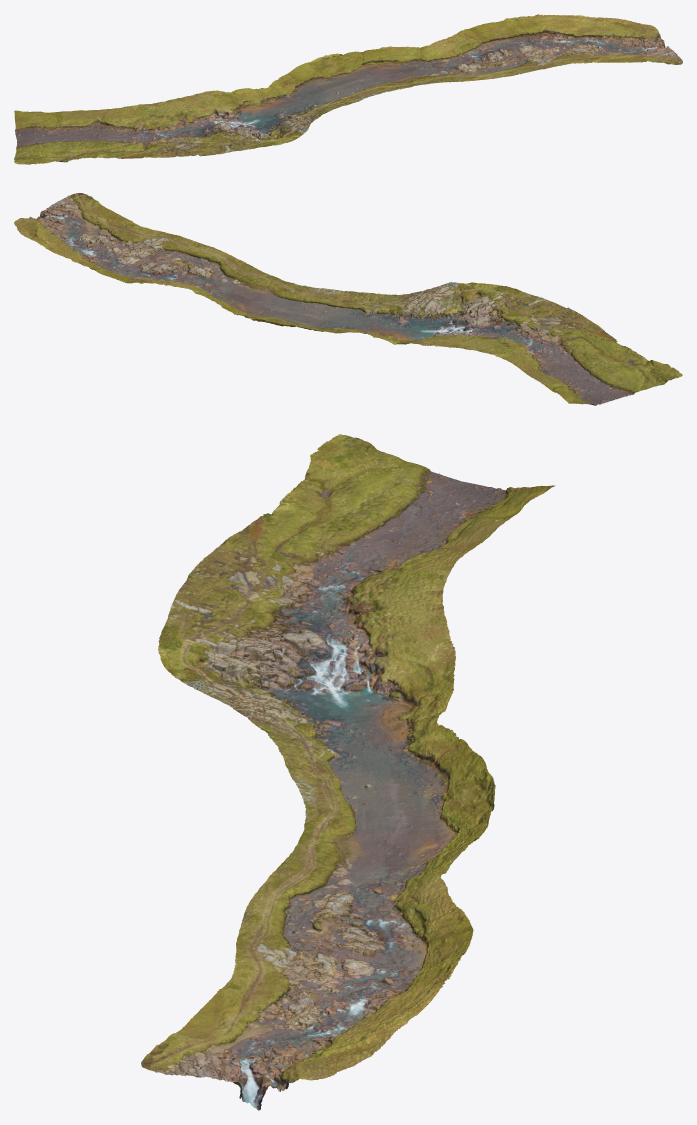
Rendered from river-2k.glb.
3 renders of one model, top to bottom at view 1: azimuth 30°, elevation 25°; view 2: azimuth 150°, elevation 25°; view 3: azimuth 270°, elevation 25°, orthographic. The views are drawn at different scales.
Parts seen in each view (by area): view 1: river_3_01; view 2: river_3_01; view 3: river_3_01.
Boxes of the visible parts, bbox=[...] form: river_3_01: bbox=[14, 14, 682, 164]; river_3_01: bbox=[14, 193, 682, 405]; river_3_01: bbox=[141, 434, 555, 1110].
Size of the model in its own units: 221 by 11.05 by 62.77.
1 material, 1 textured.
